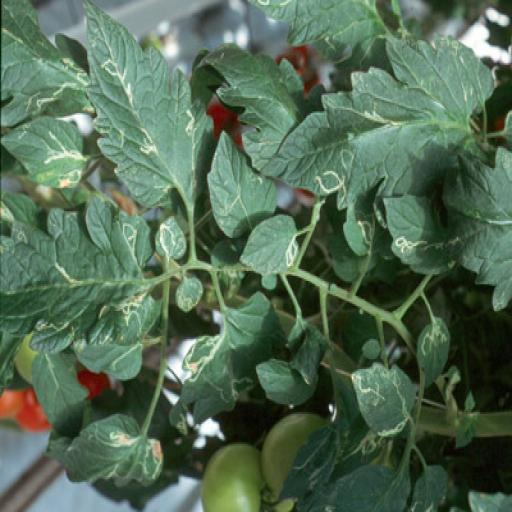Leaf Miner: (260, 32, 496, 210), (84, 0, 217, 211), (0, 188, 160, 356), (382, 144, 512, 314), (0, 113, 87, 188), (351, 360, 419, 440), (240, 215, 302, 277)
